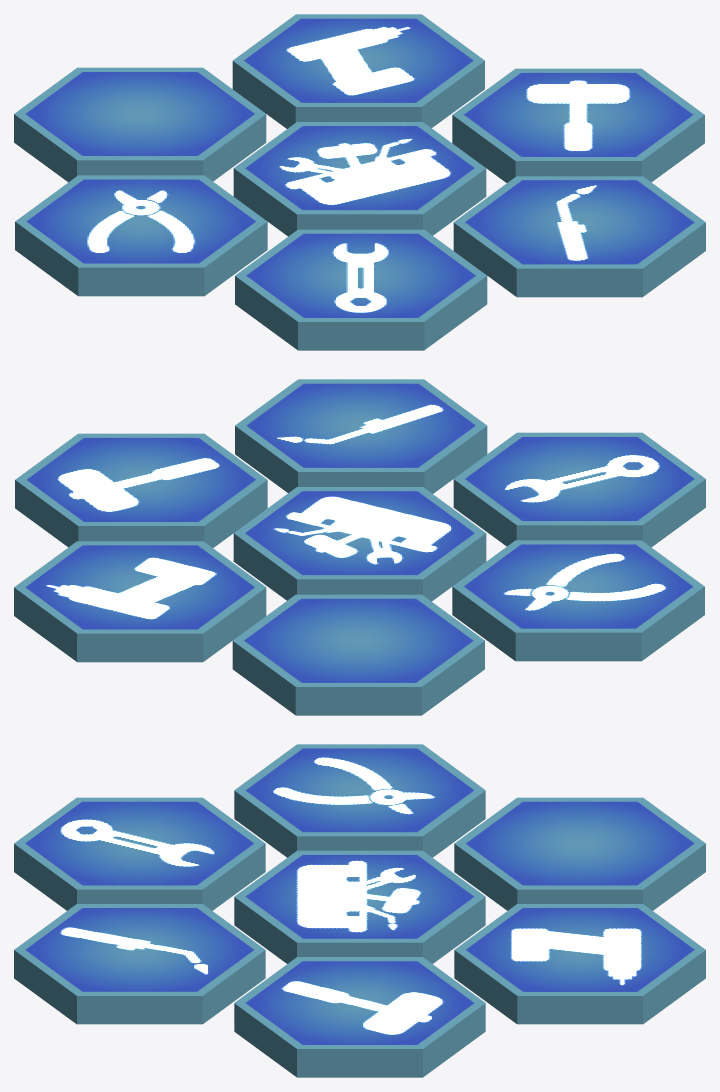
Rendered from Inventory Hex.fbx.
The picture shows the model from 3 angles, top to bottom: view 1: azimuth 30°, elevation 25°; view 2: azimuth 150°, elevation 25°; view 3: azimuth 270°, elevation 25°; orthographic projection.
Visible parts, largest first — view 1: Left Hex, LowL Hex, LowR Hex, Right Hex, TopL Hex, Middle Hex, TopR Hex; view 2: Left Hex, TopR Hex, TopL Hex, Right Hex, LowL Hex, Middle Hex, LowR Hex; view 3: TopR Hex, LowR Hex, Right Hex, TopL Hex, LowL Hex, Middle Hex, Left Hex.
Boxes of the visible parts, bbox=[...] form: Left Hex: bbox=[15, 175, 267, 296]; LowL Hex: bbox=[235, 229, 487, 350]; LowR Hex: bbox=[453, 176, 705, 297]; Right Hex: bbox=[452, 68, 704, 182]; TopL Hex: bbox=[14, 67, 266, 182]; Middle Hex: bbox=[233, 122, 486, 236]; TopR Hex: bbox=[232, 14, 484, 128]; Left Hex: bbox=[452, 540, 704, 661]; TopR Hex: bbox=[14, 541, 266, 662]; TopL Hex: bbox=[232, 594, 484, 715]; Right Hex: bbox=[15, 433, 267, 547]; LowL Hex: bbox=[453, 432, 705, 547]; Middle Hex: bbox=[233, 487, 486, 601]; LowR Hex: bbox=[235, 379, 487, 493]; TopR Hex: bbox=[454, 904, 705, 1024]; LowR Hex: bbox=[14, 904, 265, 1024]; Right Hex: bbox=[234, 957, 485, 1077]; TopL Hex: bbox=[454, 797, 705, 910]; LowL Hex: bbox=[14, 797, 265, 910]; Middle Hex: bbox=[234, 850, 485, 963]; Left Hex: bbox=[234, 744, 485, 857].
Size of the model in its own units: 11.46 by 0.5 by 11.
1 material, 1 textured.
